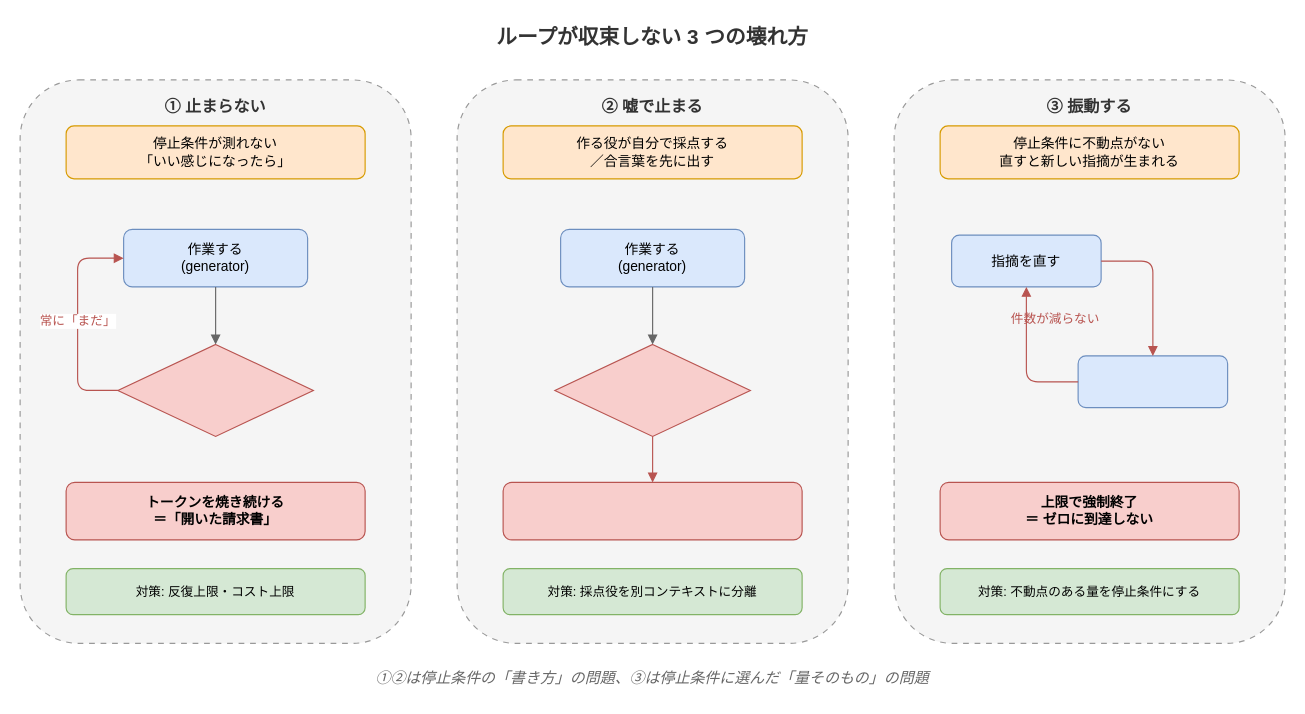
The diagram is 1305 pixels wide and 714 high, and some of its shapes have lost their labels. Here are the shapes that lost their labels. From the top down, the centre of each, then its label:
[215,389]: 判定できない
[652,389]: 「もう十分だろう」
[1152,381]: 別の指摘が出る
[652,510]: 条件未達のまま停止 ＝ 緑に見える赤
